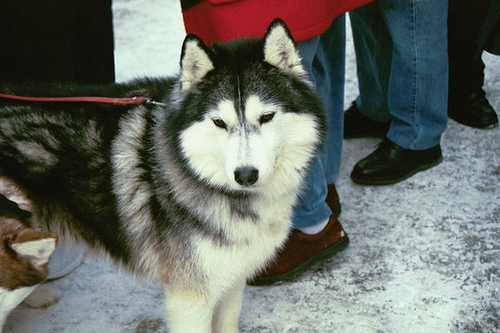dog: (1, 16, 328, 332)
